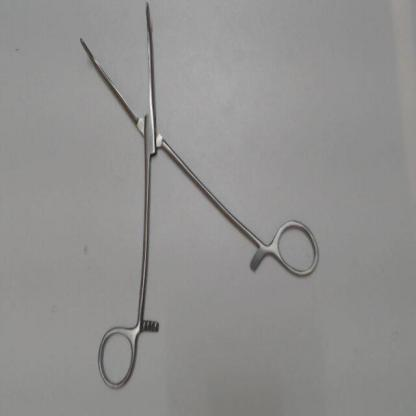Lahey Forceps: (68, 4, 326, 400)
